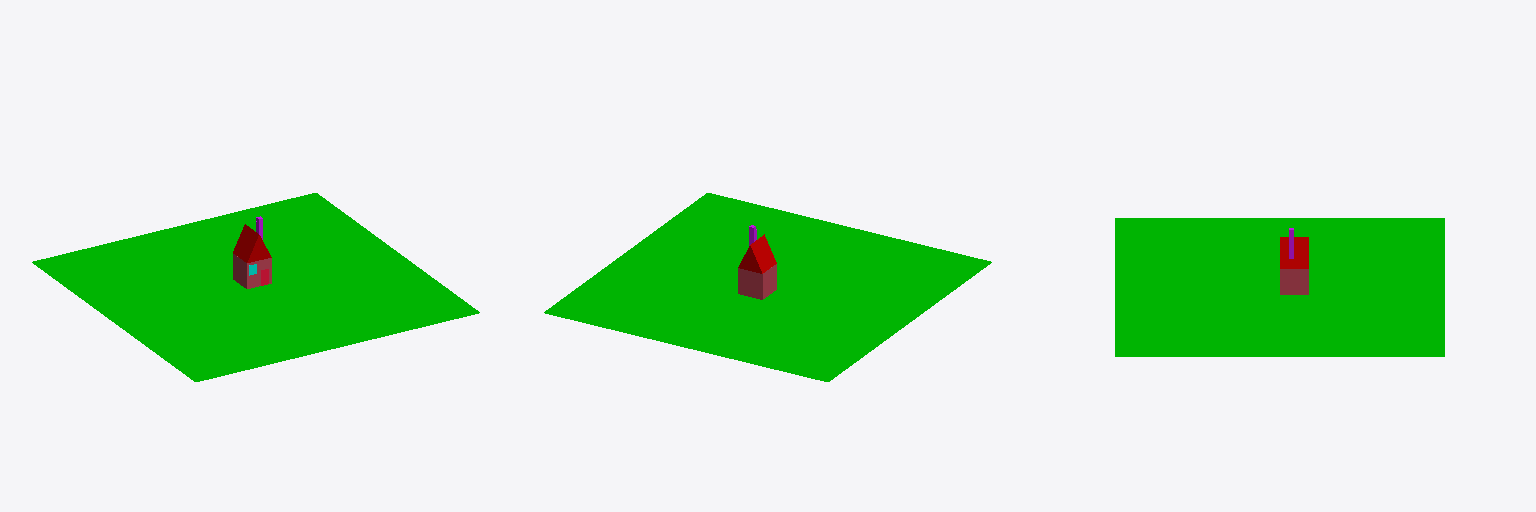
File: ken_house.obj
3 renders of one model, left to right at view 1: azimuth 30°, elevation 25°; view 2: azimuth 150°, elevation 25°; view 3: azimuth 270°, elevation 25°, orthographic.
Parts seen in each view (by area): view 1: Plane, roof_Cube.001, house_Cube; view 2: Plane, house_Cube, roof_Cube.001; view 3: Plane, roof_Cube.001, house_Cube.
Part boxes in pixels (bbox=[...]): Plane: bbox=[32, 193, 479, 381]; roof_Cube.001: bbox=[233, 224, 271, 262]; house_Cube: bbox=[233, 254, 271, 288]; Plane: bbox=[544, 193, 991, 381]; house_Cube: bbox=[738, 264, 776, 299]; roof_Cube.001: bbox=[738, 234, 776, 273]; Plane: bbox=[1115, 218, 1444, 356]; roof_Cube.001: bbox=[1280, 237, 1308, 268]; house_Cube: bbox=[1280, 269, 1308, 294].
Size of the model in its own units: 22.87 by 4.83 by 22.87.